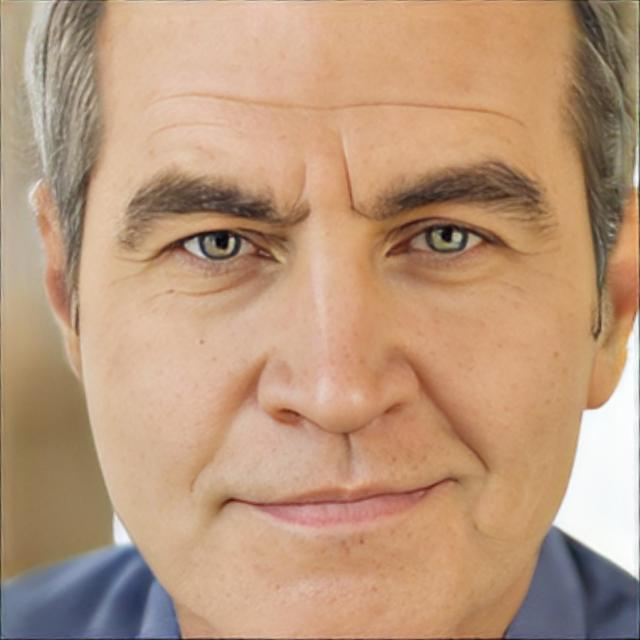content: (78, 0, 594, 640)
